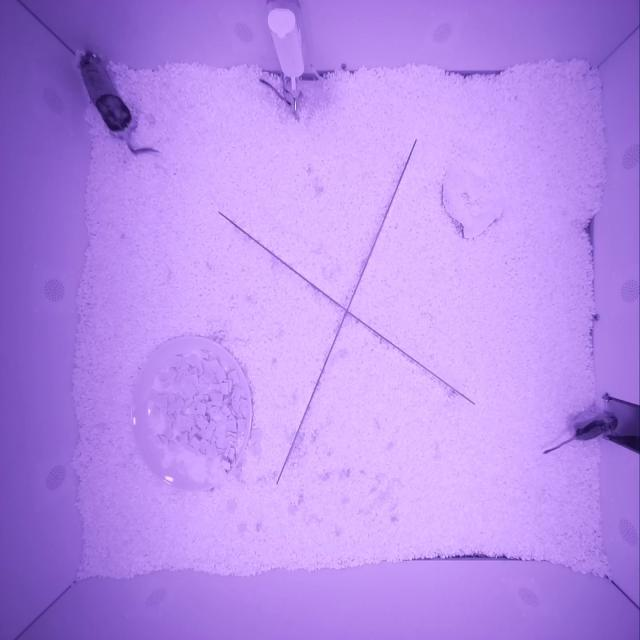adult_back: (75, 52, 137, 139)
pup_v_stripe: (573, 410, 618, 442)
